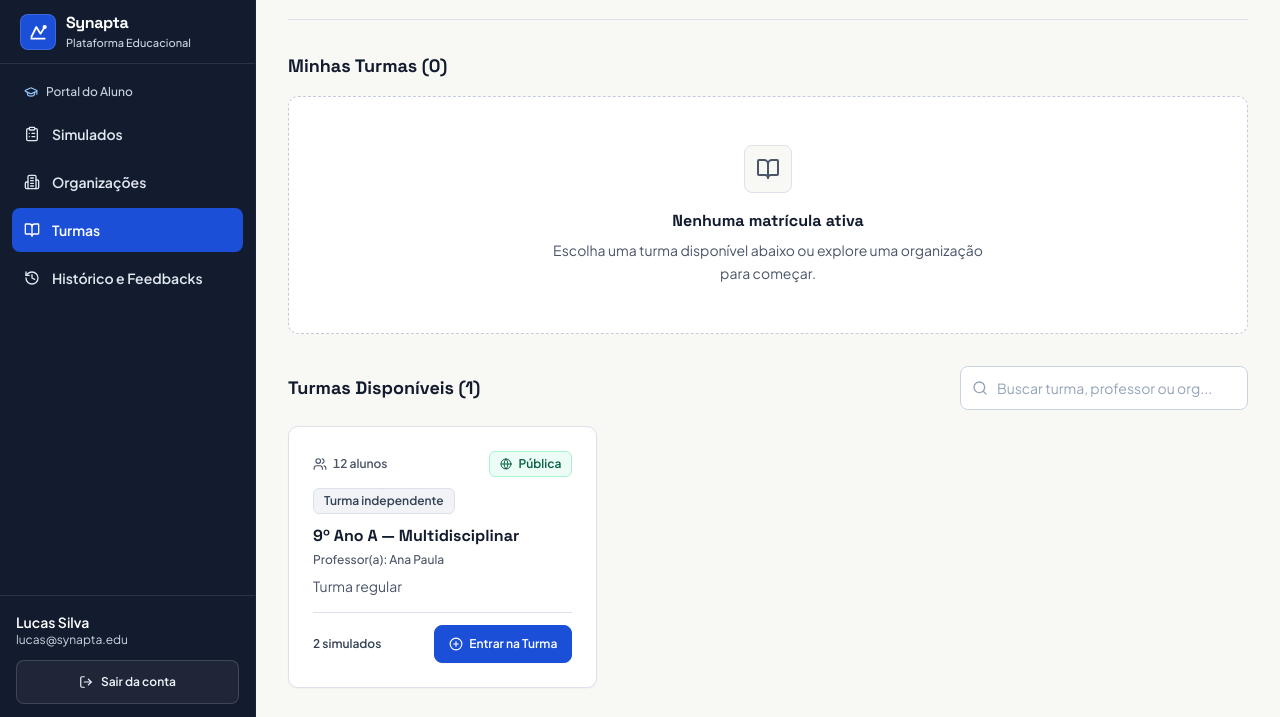
Test case: StudentQuizFeedback › permite ao aluno entrar em uma turma pública disponível
The image size is (1280, 717).
(page scrolled)
Click the button "Entrar na Turma".
click(503, 644)  # box top-left (434, 624), bottom-right (572, 662)
(page scrolled)
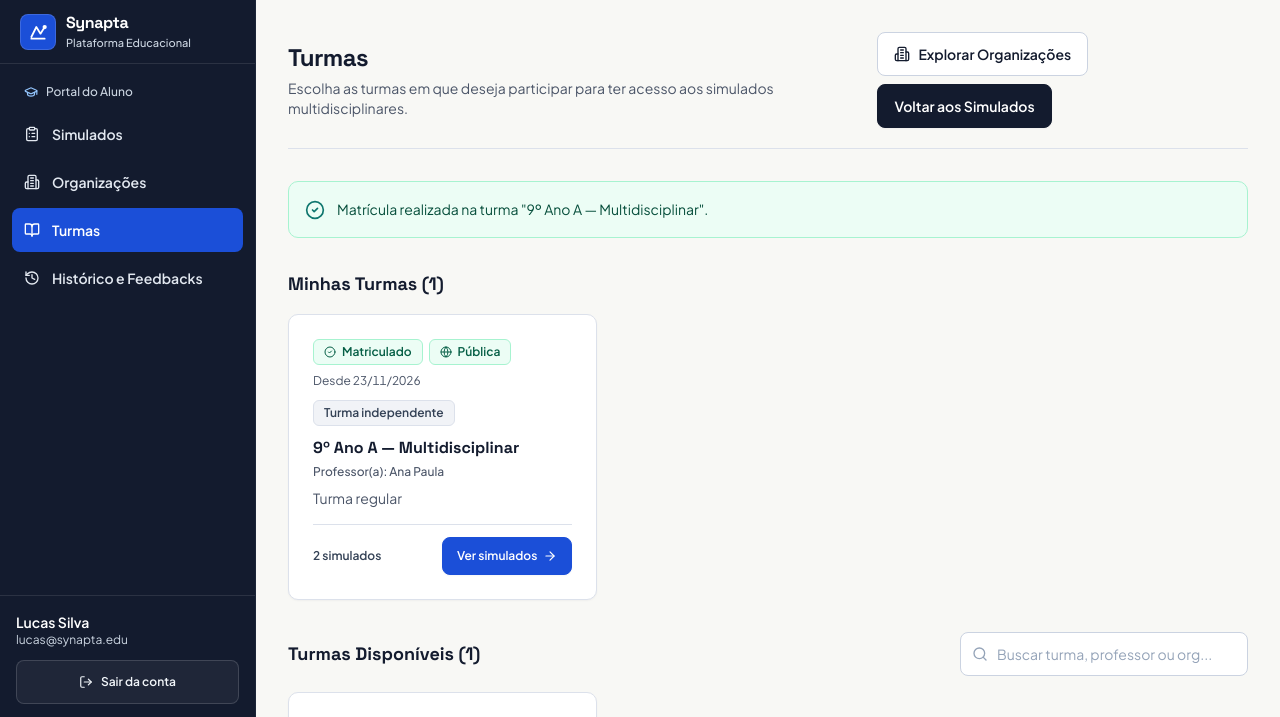
Check: the text "Matrícula realizada na turma \"9º Ano A — Multidisciplinar\"." is shown, box top-left (337, 200), bottom-right (708, 218)
